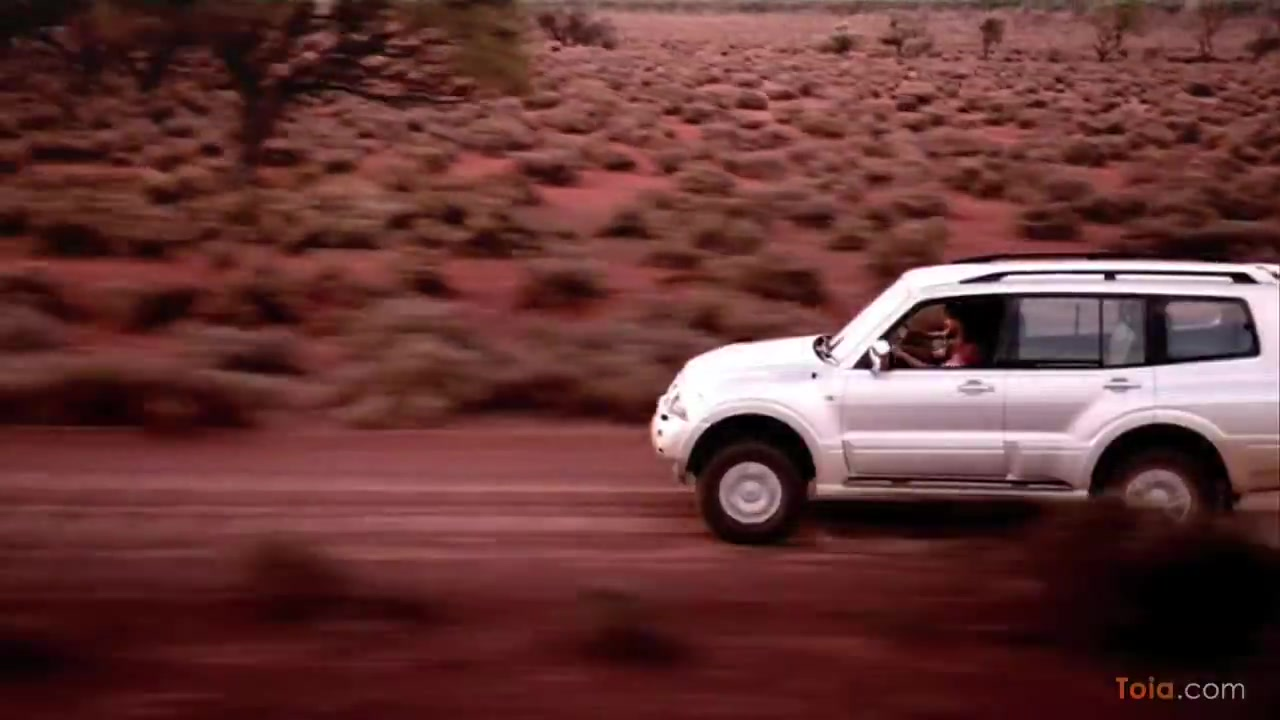car: (648, 254, 1280, 549)
